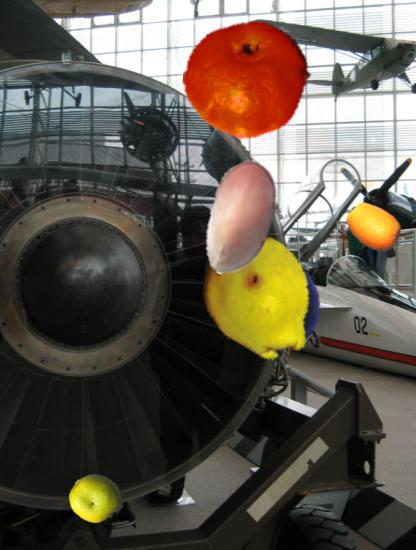Clementine: (183, 14, 315, 146)
Hazelnut: (180, 158, 300, 278)
Kumquats: (345, 198, 403, 256)
Plum: (202, 233, 327, 358)
Pomelo: (70, 473, 121, 524)
Quince: (190, 230, 324, 364)
